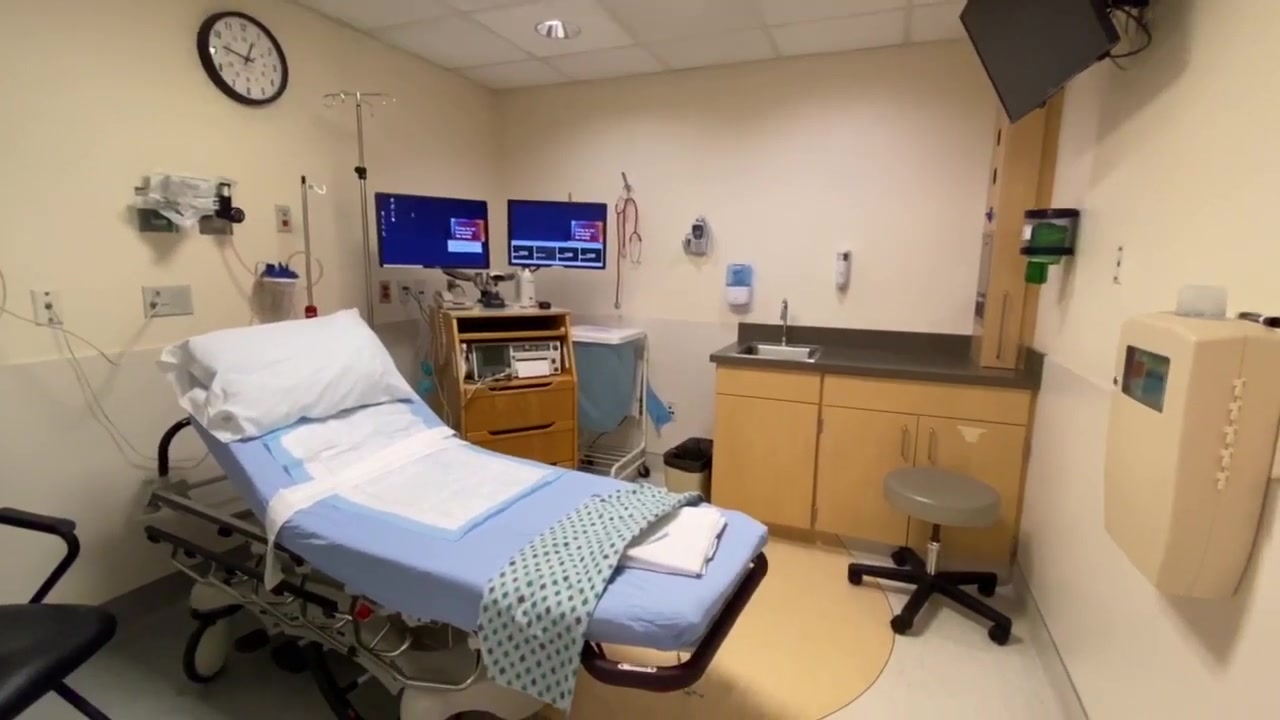TV: (957, 1, 1121, 126)
cabinet: (708, 340, 1039, 589)
chair: (850, 462, 1017, 644), (1, 504, 118, 720)
computer: (374, 190, 492, 270), (505, 198, 609, 268)
countertop: (708, 338, 1040, 379)
dispenser: (723, 262, 752, 306), (832, 250, 854, 292)
drawer: (433, 309, 579, 471)
exam_table: (143, 308, 770, 720)
faucet: (776, 297, 797, 345)
handle: (895, 424, 909, 461), (923, 425, 937, 462)
iv_pole: (321, 88, 395, 333), (298, 174, 327, 317)
medical_waste_container: (1102, 284, 1280, 602)
sink: (734, 341, 820, 365)
telephone: (433, 289, 473, 311)
waste_bin: (574, 326, 651, 480), (662, 436, 713, 501)
